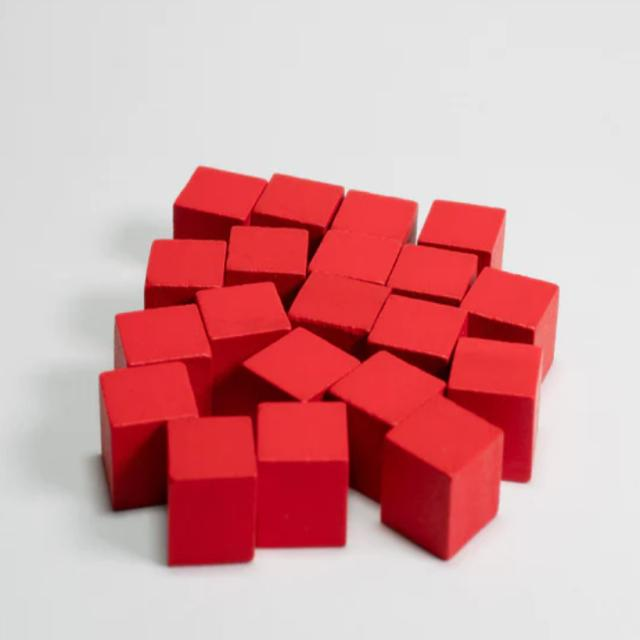red cube: (380, 393, 505, 561), (325, 348, 449, 503), (241, 325, 362, 455), (100, 362, 199, 510), (446, 336, 545, 484), (256, 401, 349, 547), (167, 416, 257, 566), (195, 281, 291, 416), (459, 265, 560, 380), (114, 303, 214, 417), (287, 270, 391, 363), (367, 291, 469, 383), (251, 171, 346, 262), (173, 163, 269, 241), (225, 227, 308, 312), (418, 198, 507, 276), (386, 241, 480, 307), (144, 239, 226, 310), (309, 228, 403, 285), (330, 187, 418, 243)
